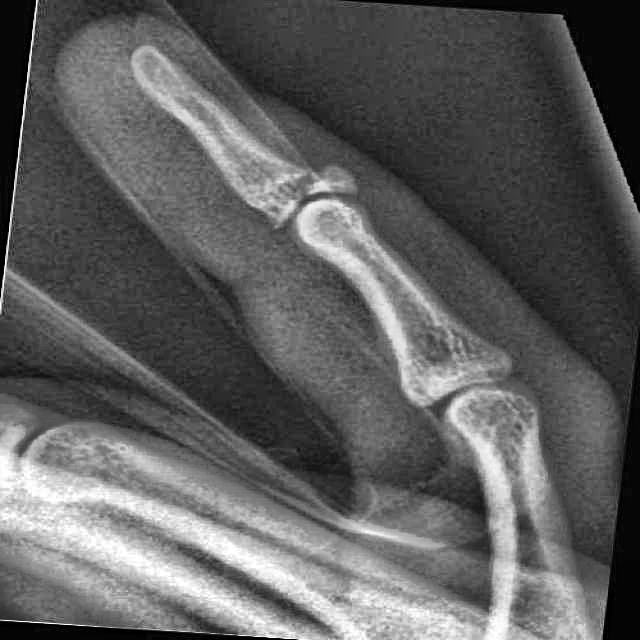Greenstick: (258, 165, 370, 232)
